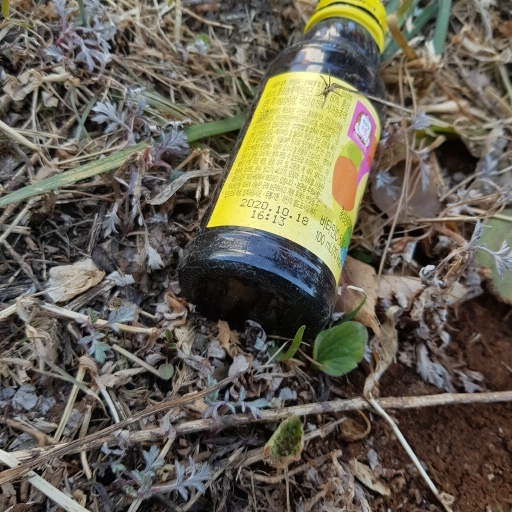Glass_3: (175, 1, 386, 336)
